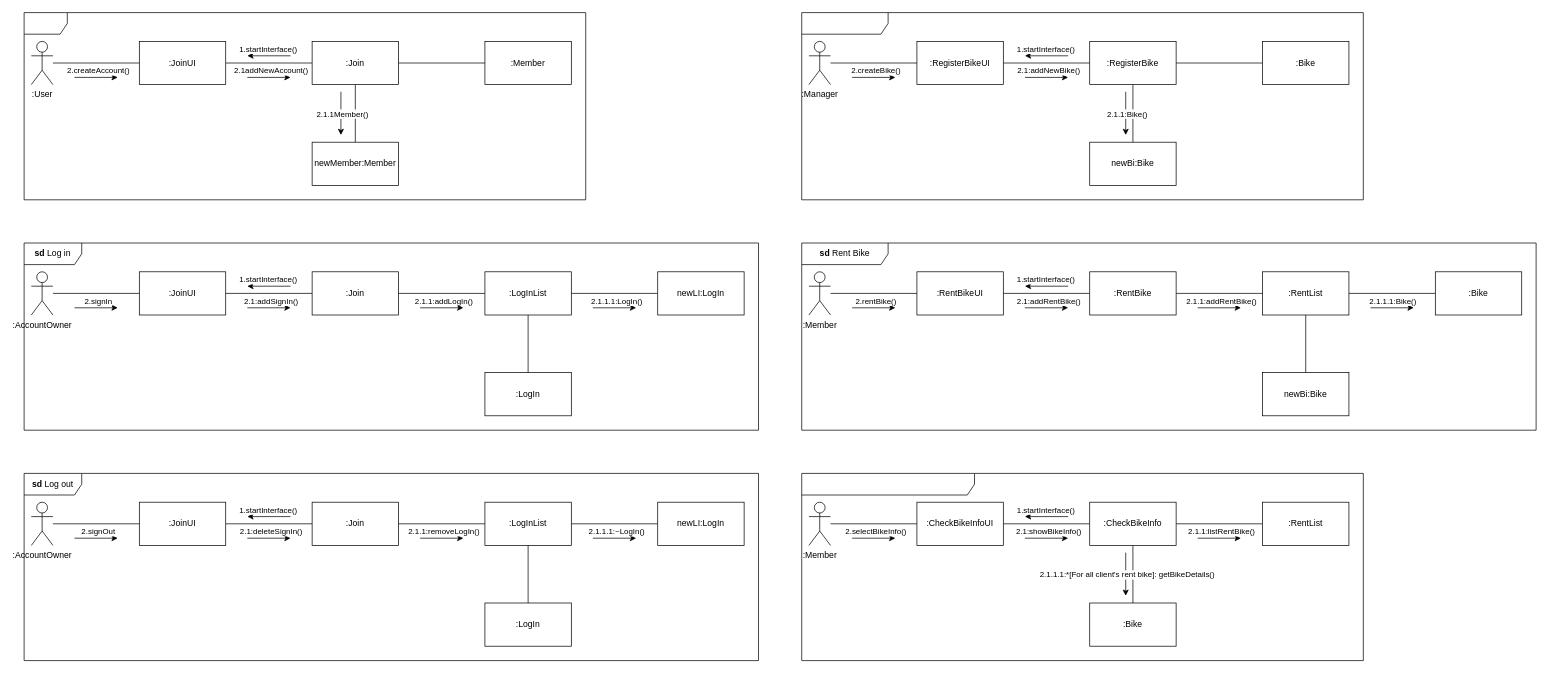
Some shapes in this 1549 by 673 pixel diagram are drawn without their labels. Here are the shapes that lost their labels. From the top down, the centre of each, then its label:
At (x=304, y=106): "sd Join".
At (x=1082, y=106): "sd Register bike".
At (x=1082, y=567): "sd Check out bike rental information".
